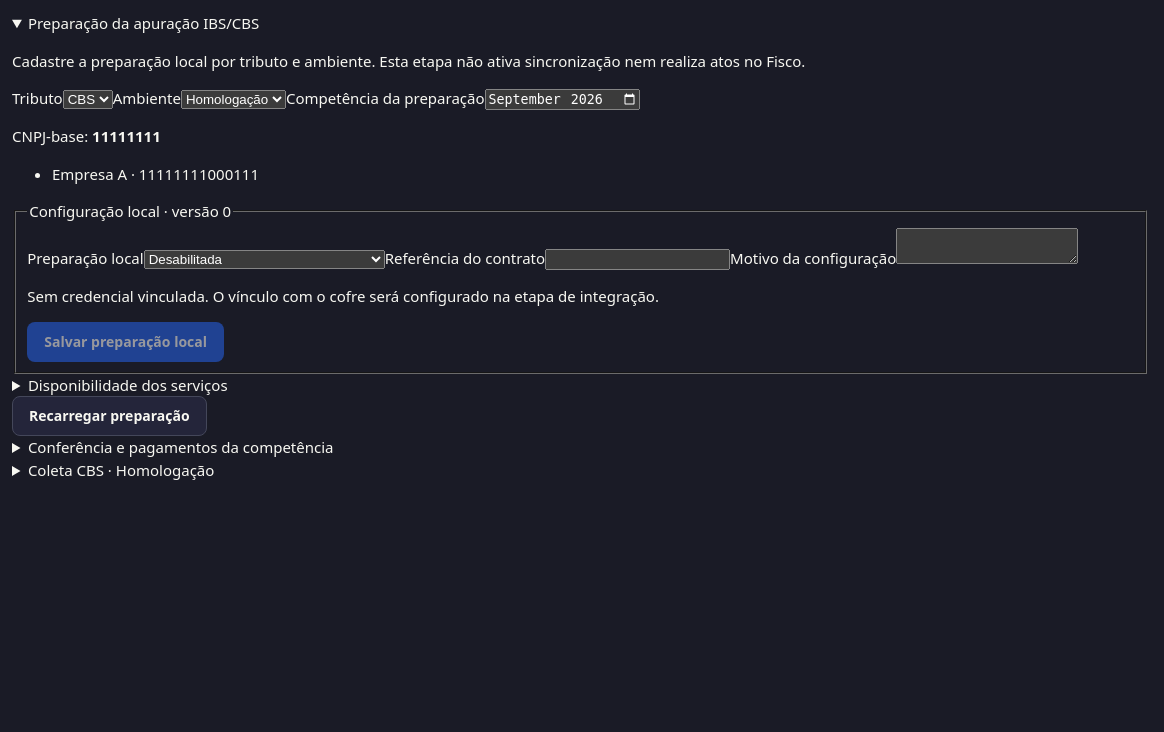
Scenario: IBS apresenta limitações do contrato e fonte oficial sem habilitar operações
Expected: the list item "Empresa A · 11111111000111" is shown, [52, 164, 259, 184]
Select "IBS" in the dropdown labelled "Tributo": (88, 100) [63, 90, 113, 109]
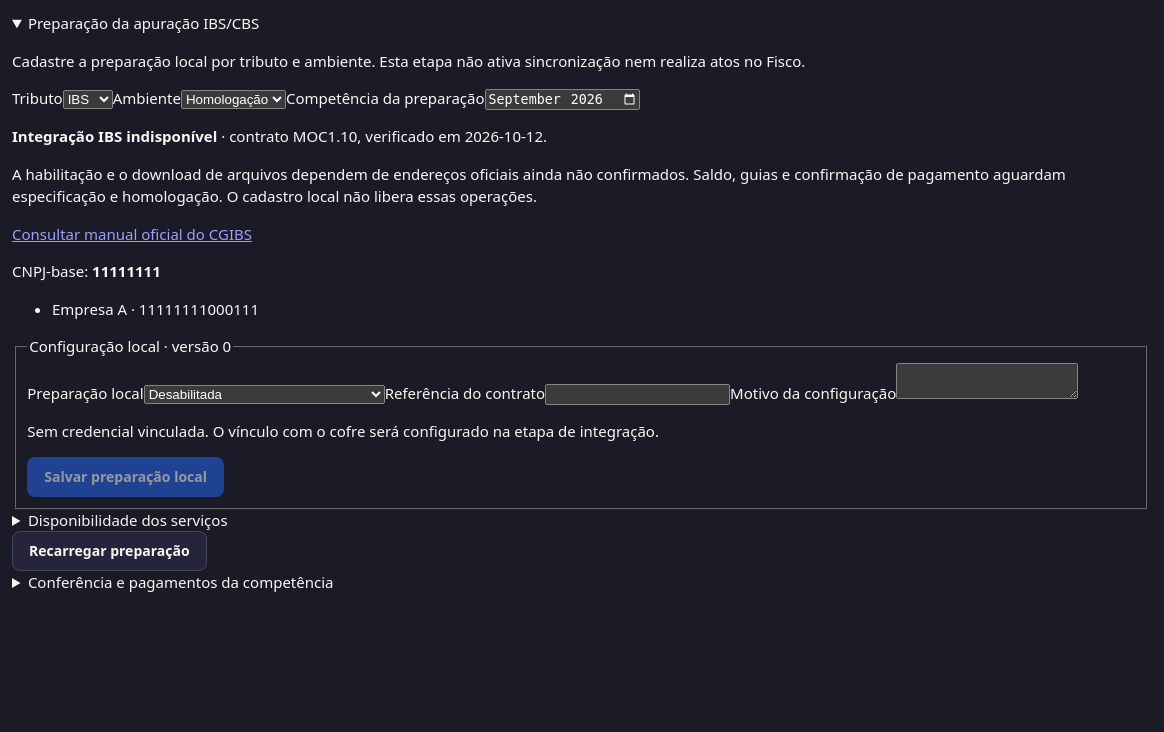
Expected: the text "Integração IBS indisponível" is shown, [12, 126, 217, 146]
Expected: the text "Saldo, guias e confirmação de pagamento aguardam especificação" is shown, [12, 164, 1066, 206]
